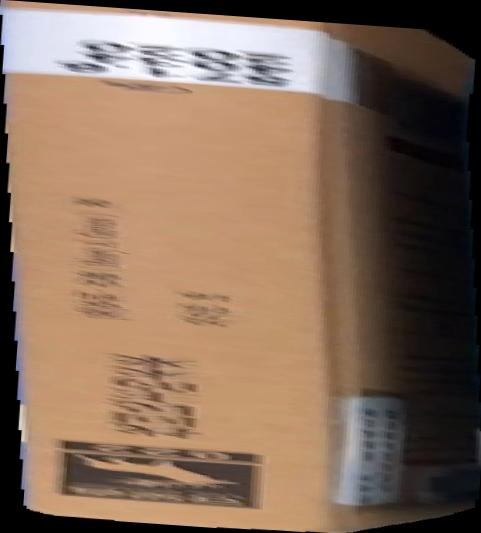reverse: (1, 1, 481, 533)
